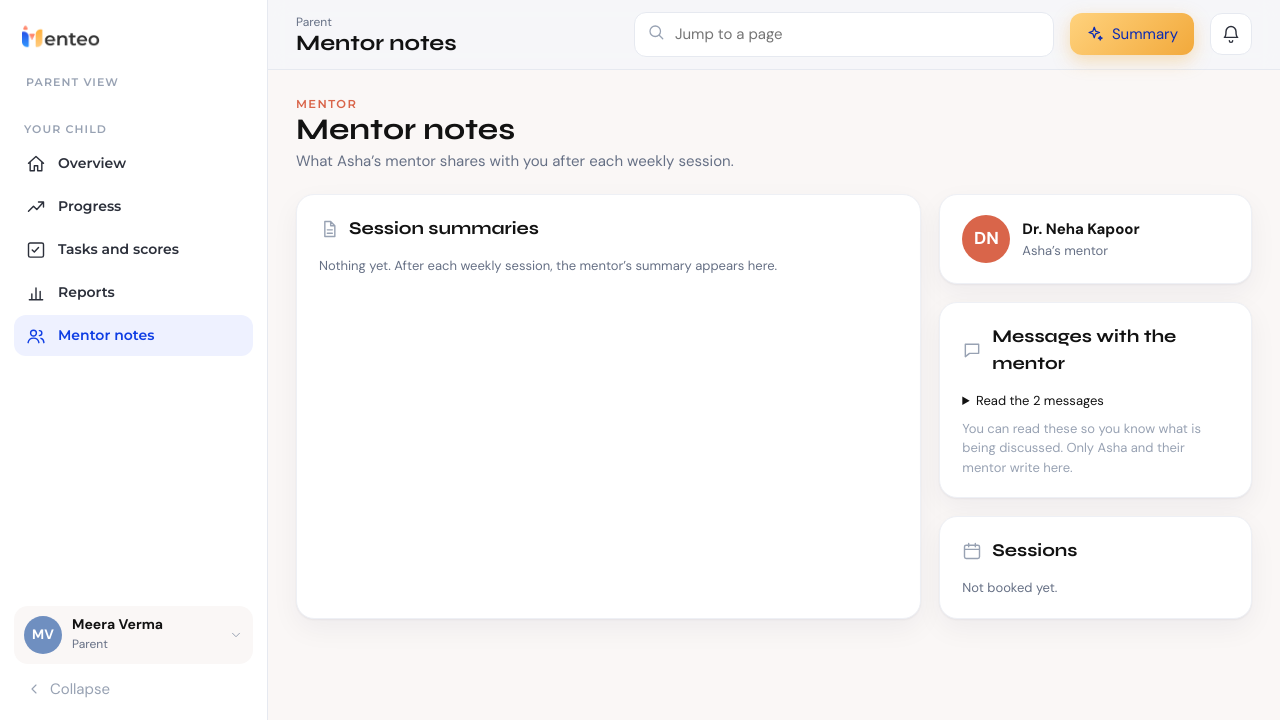
Test: parent: reads the messages › shows the conversation between the child and the mentor, read-only
Step 1. Click the heading "Read the 2 messages" → (1040, 401), box left=976, top=392, right=1104, bottom=409
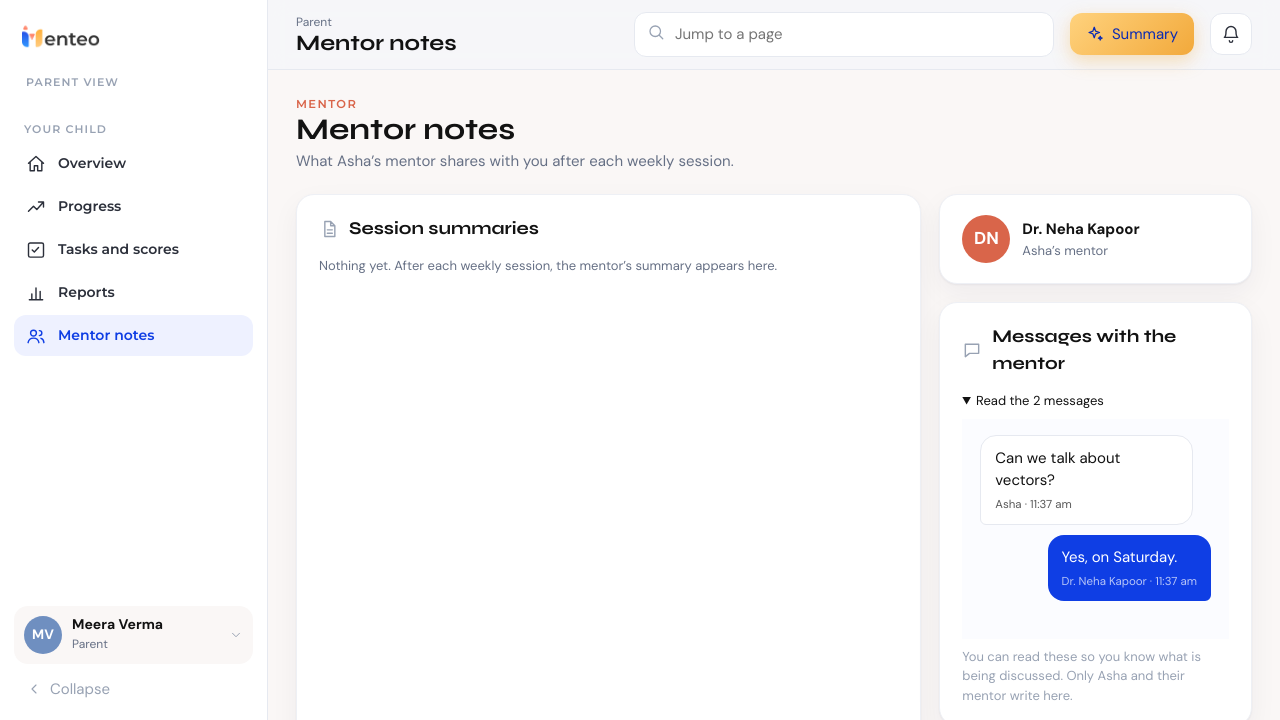
Expected: the text "Yes, on Saturday." is shown, left=1062, top=546, right=1197, bottom=568
